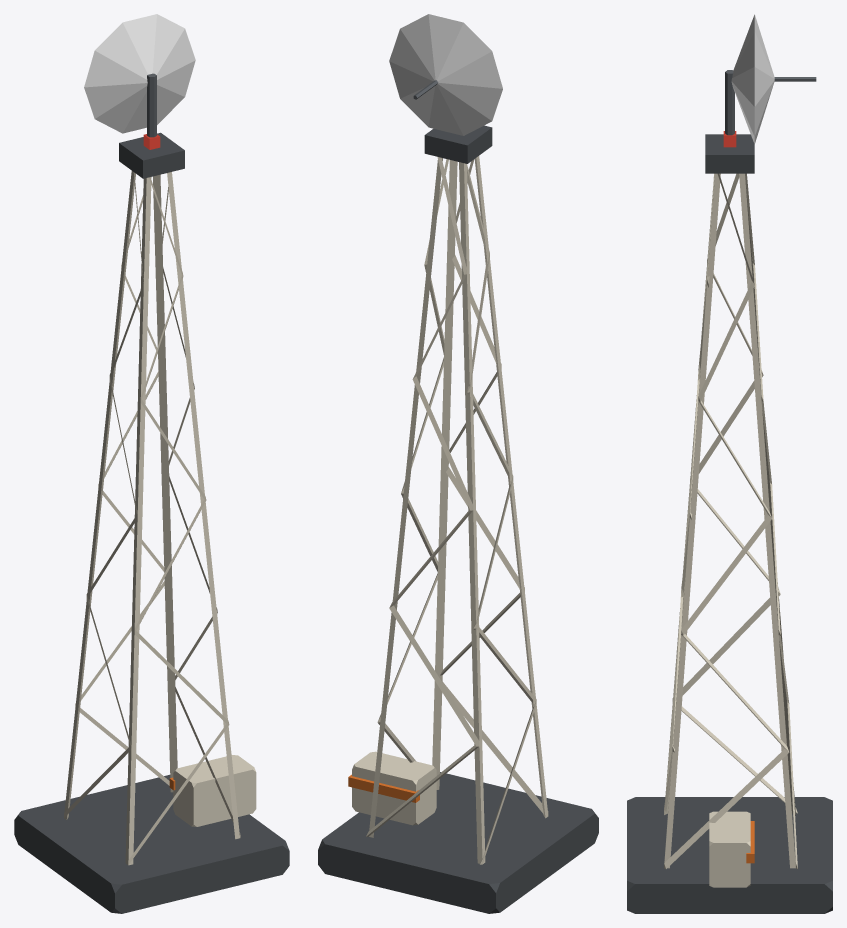
The model's file is hum_str_relay.glb.
3 renders of one model, left to right at view 1: azimuth 30°, elevation 25°; view 2: azimuth 150°, elevation 25°; view 3: azimuth 270°, elevation 25°, orthographic. The views are drawn at different scales.
Parts seen in each view (by area): view 1: mast, dish; view 2: mast, dish; view 3: mast, dish.
Boxes of the visible parts, x1,y1,x2,y2 form: mast: [14, 132, 289, 913]; dish: [84, 14, 195, 137]; mast: [318, 125, 598, 913]; dish: [389, 14, 502, 135]; mast: [627, 134, 832, 913]; dish: [725, 14, 816, 144].
Size of the model in its own units: 5.25 by 22.72 by 5.
Materials: 2 (2 with a texture image).
